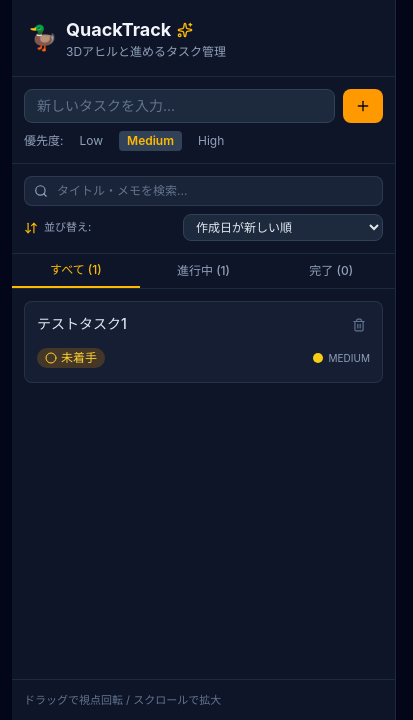
Scenario: TaskPanel Component › タスク削除と Undo Toast 通知 › Undo Toast の「元に戻す」をクリックするとタスクが復元される
The width and height of the screenshot is (413, 720).
Click the button with test id "delete-task-test-1".
click(359, 325)  # box [348,314,370,336]
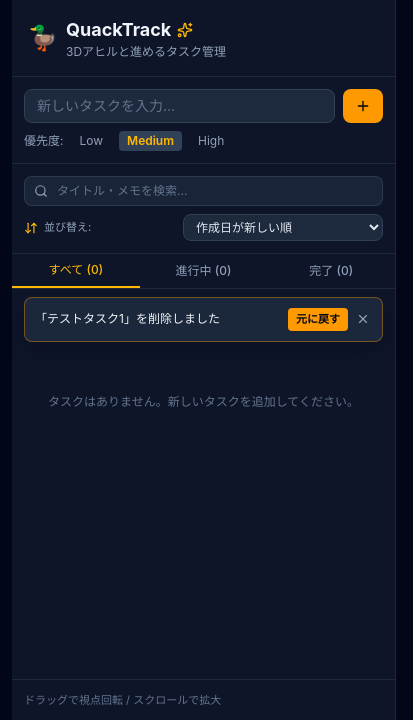
Click the button with test id "undo-delete-button".
click(318, 319)  # box [288,308,348,331]
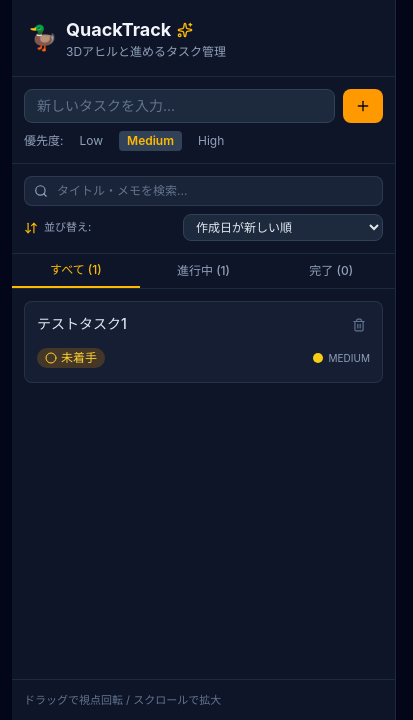
Expected: the text "テストタスク1" is shown, [37,315,127,332]
Result: the message with test id "undo-toast" is gone
